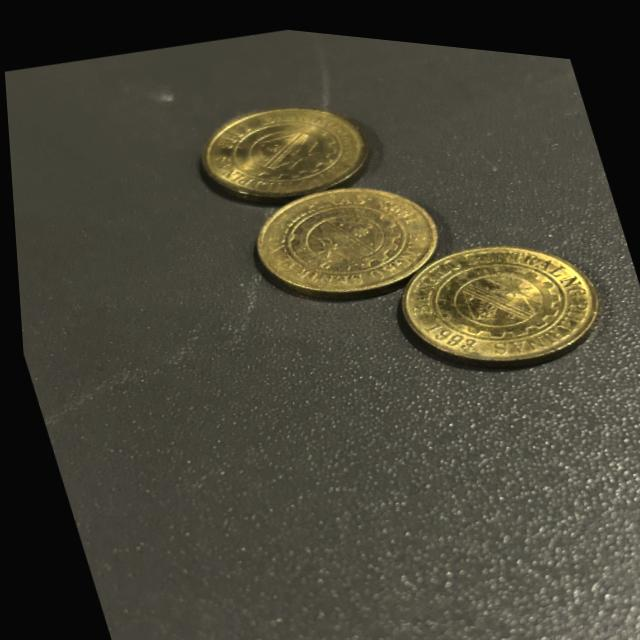25Cent_Old_Back: (413, 220, 593, 374), (259, 159, 417, 300), (198, 91, 348, 208)
